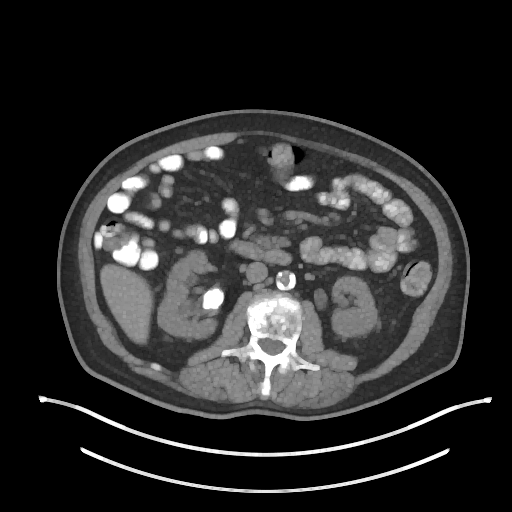Lesion: (195, 285, 226, 312)
